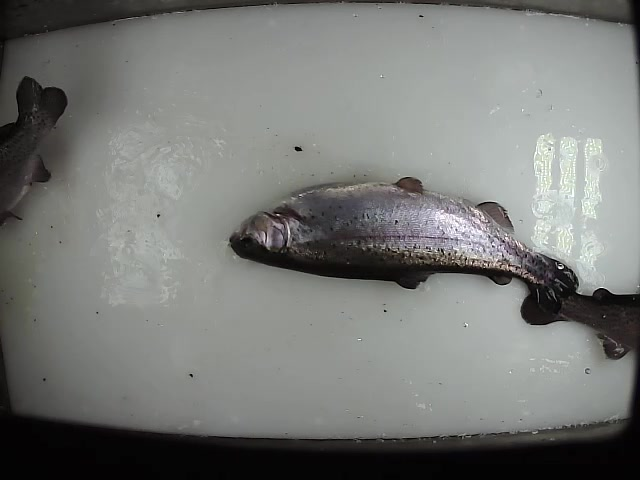fish: (223, 172, 579, 314)
